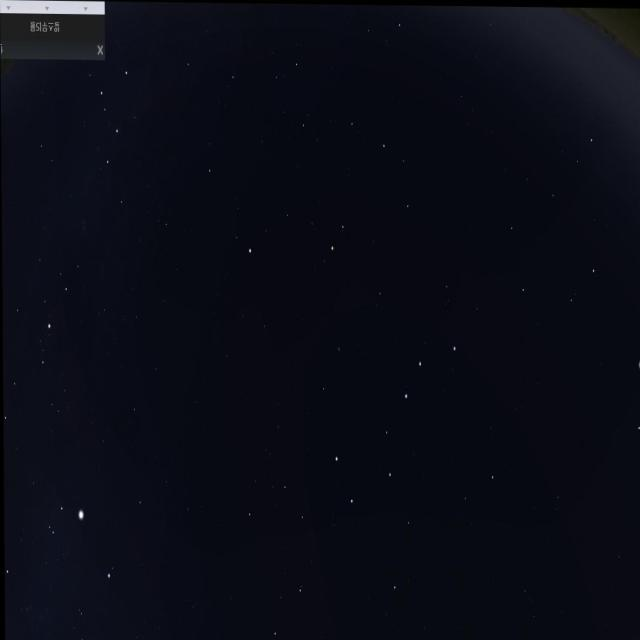cassiopeia: (81, 52, 149, 243)
ursa_major: (334, 329, 461, 519)
